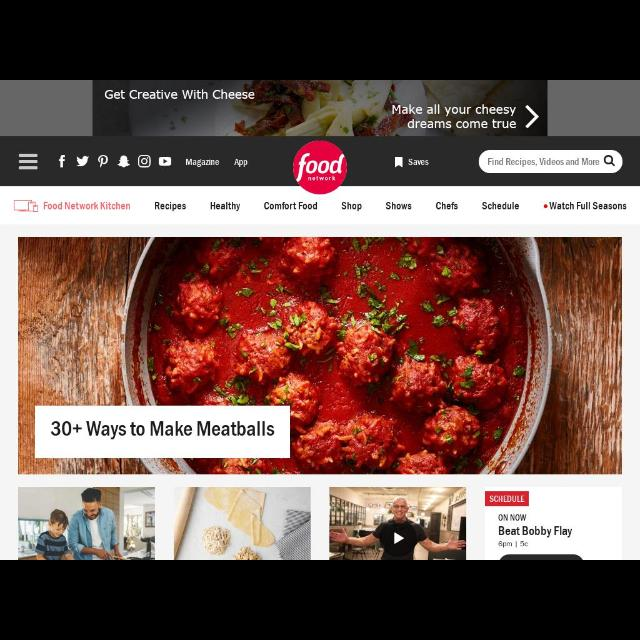backgroundimage: (20, 238, 622, 474)
icon: (18, 154, 38, 170), (604, 155, 616, 167), (395, 156, 403, 168)
iframe: (1, 82, 639, 136)
image: (19, 486, 155, 560), (329, 487, 466, 559), (174, 487, 310, 559), (484, 488, 620, 558), (292, 141, 348, 195), (14, 199, 38, 213), (138, 154, 150, 168), (75, 156, 88, 168), (118, 155, 130, 167), (98, 154, 108, 168), (158, 157, 172, 166), (59, 156, 66, 168), (544, 204, 548, 208)
input: (478, 150, 624, 174)
multitab: (154, 202, 628, 210)
text: (48, 420, 276, 438), (487, 158, 599, 166), (43, 202, 131, 212), (548, 201, 628, 211), (264, 202, 318, 212), (482, 200, 520, 212), (186, 158, 220, 168), (155, 202, 187, 212), (209, 202, 241, 212), (342, 200, 362, 212), (386, 202, 412, 210), (434, 202, 458, 210), (408, 158, 429, 166), (235, 158, 248, 168)
toolbar: (1, 136, 639, 186)
